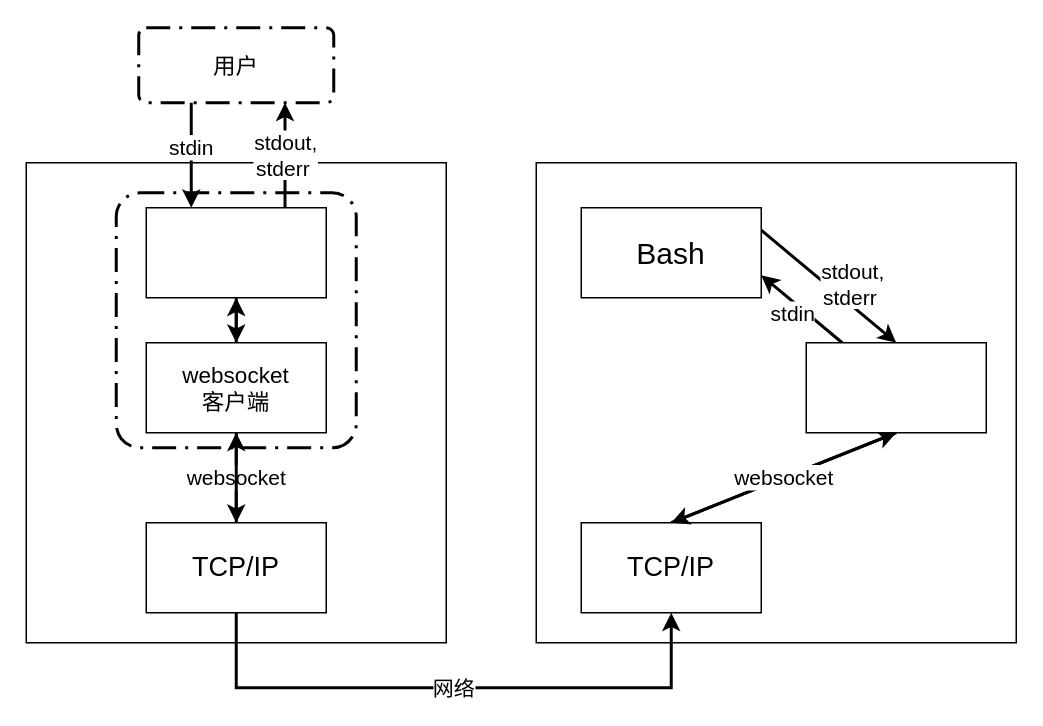
The diagram is 1043 pixels wide and 726 high, and some of its shapes have lost their labels. Here are the shapes that lost their labels. From the top down, the centre of each, then its label:
At (235,252): "终端模拟器".
At (895,387): "websocket 服务器".
